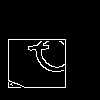Q: (25, 25, 90, 87)
